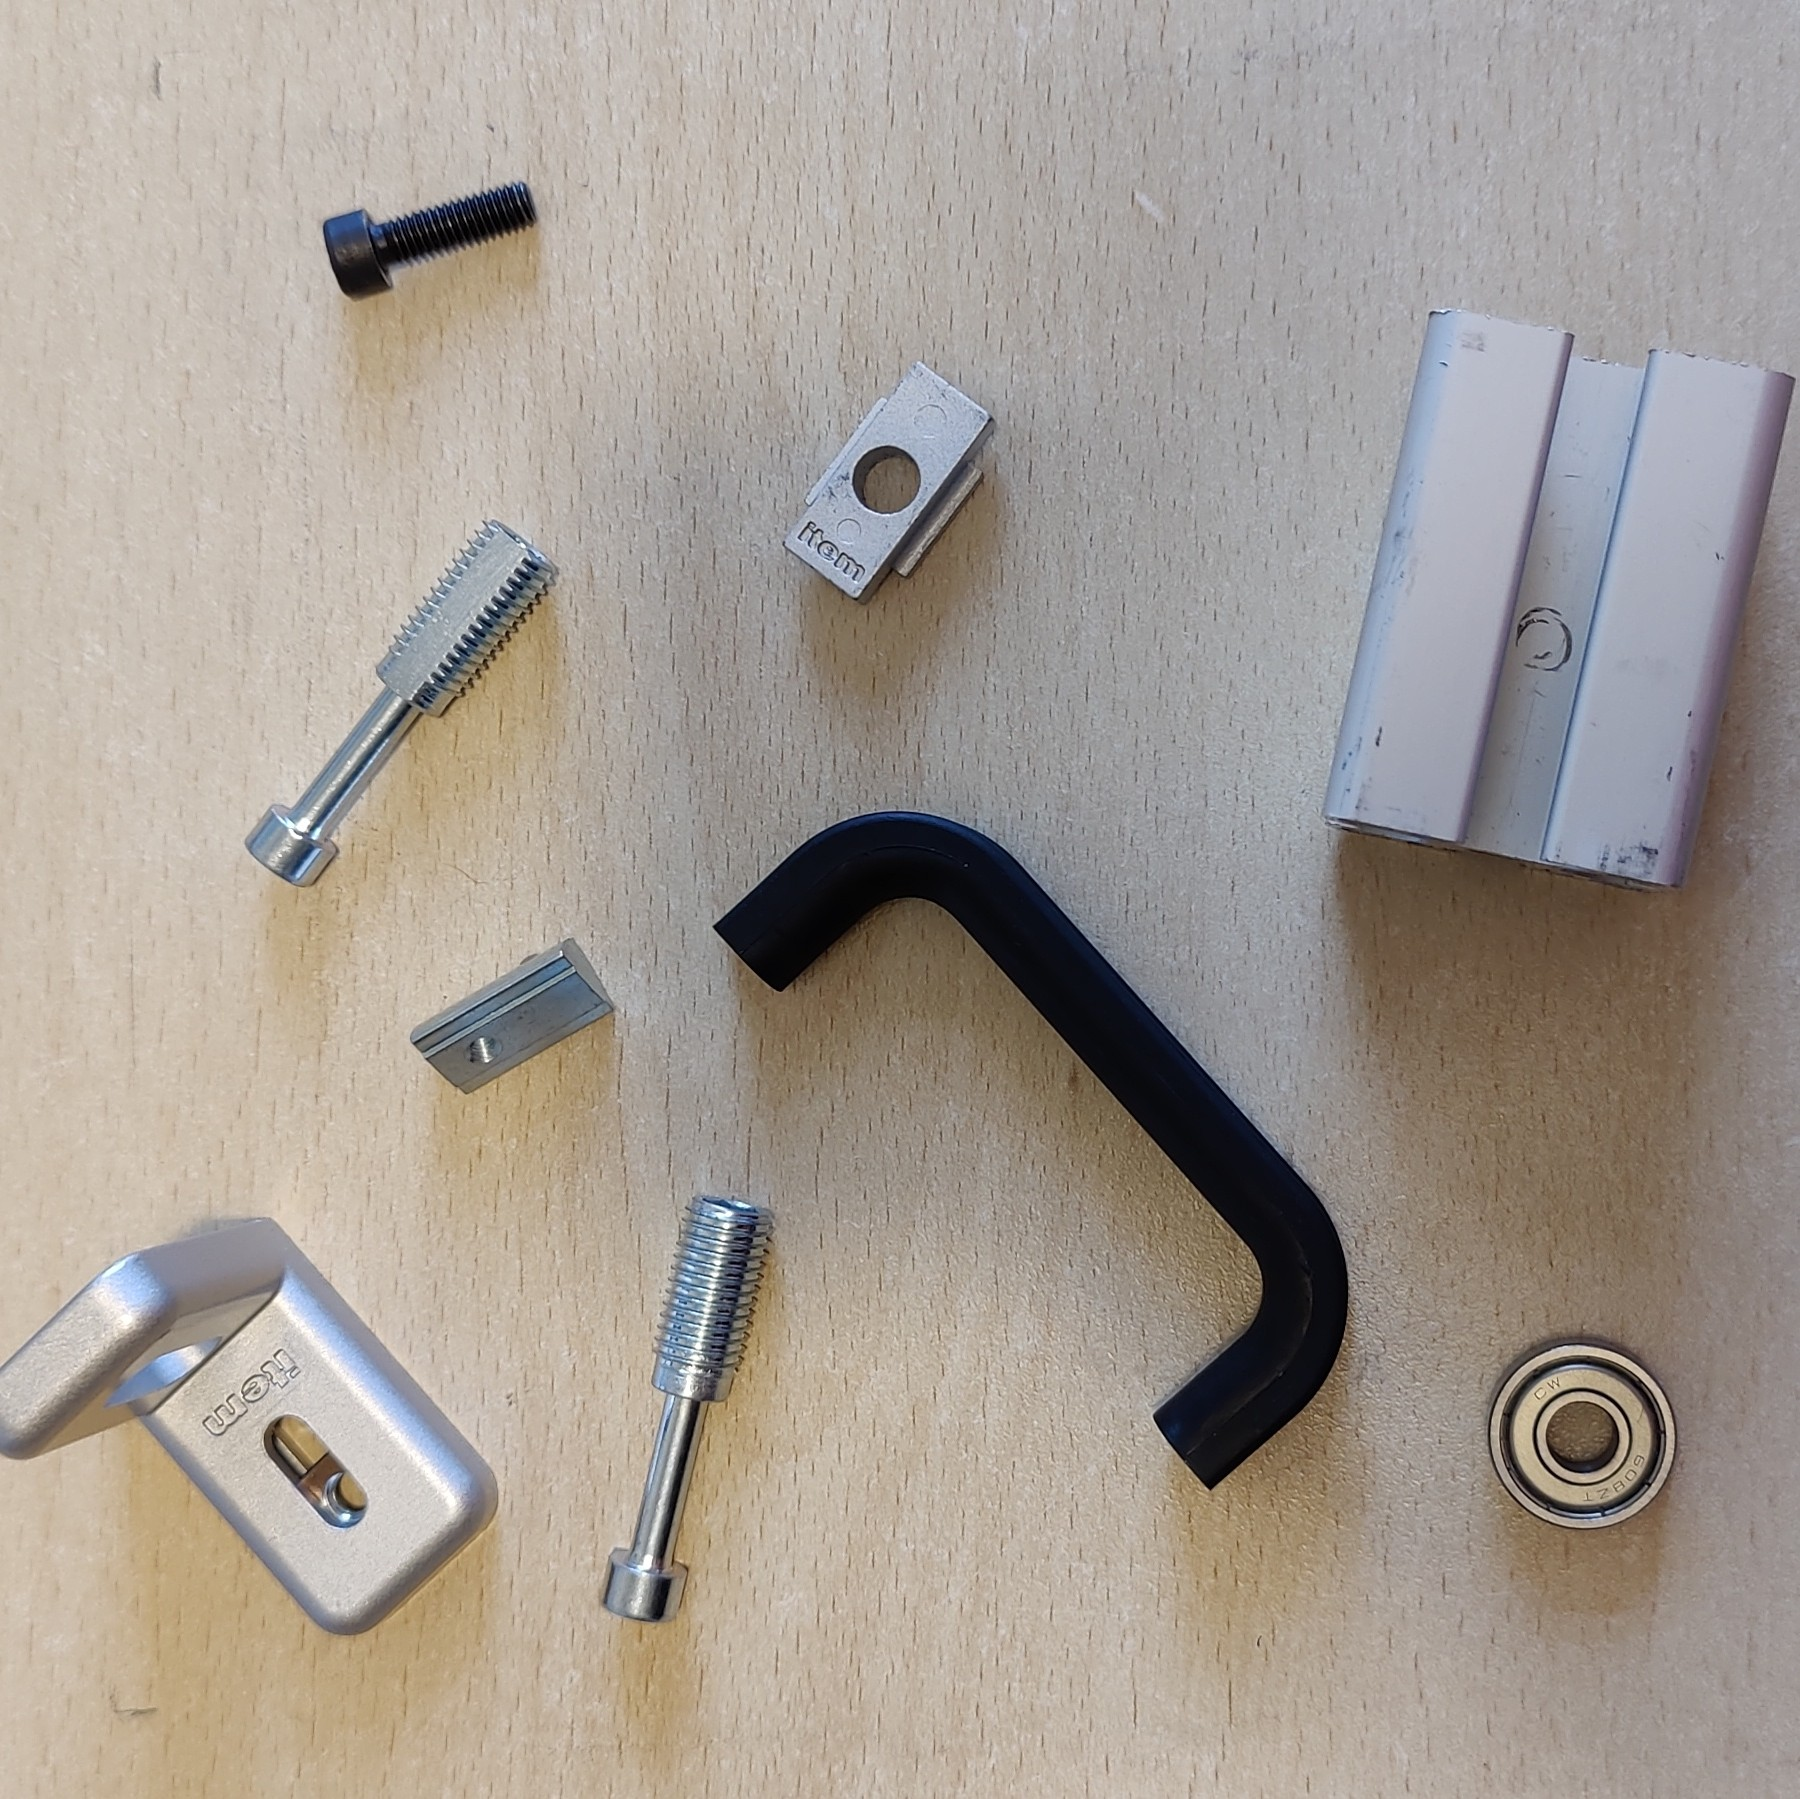Aluminium Extension: (1319, 305, 1800, 896)
Ball Bearing: (1485, 1329, 1681, 1534)
Multiwinkel: (2, 1214, 501, 1638)
Pull Handle: (711, 807, 1350, 1494)
Shoulder Socket Head Cap Screw: (242, 512, 562, 890), (598, 1188, 781, 1626)
Socket Head Cap Screw: (321, 173, 540, 305)
T Nut Square: (779, 361, 1000, 611)
T Spring Nut: (408, 936, 618, 1096)
